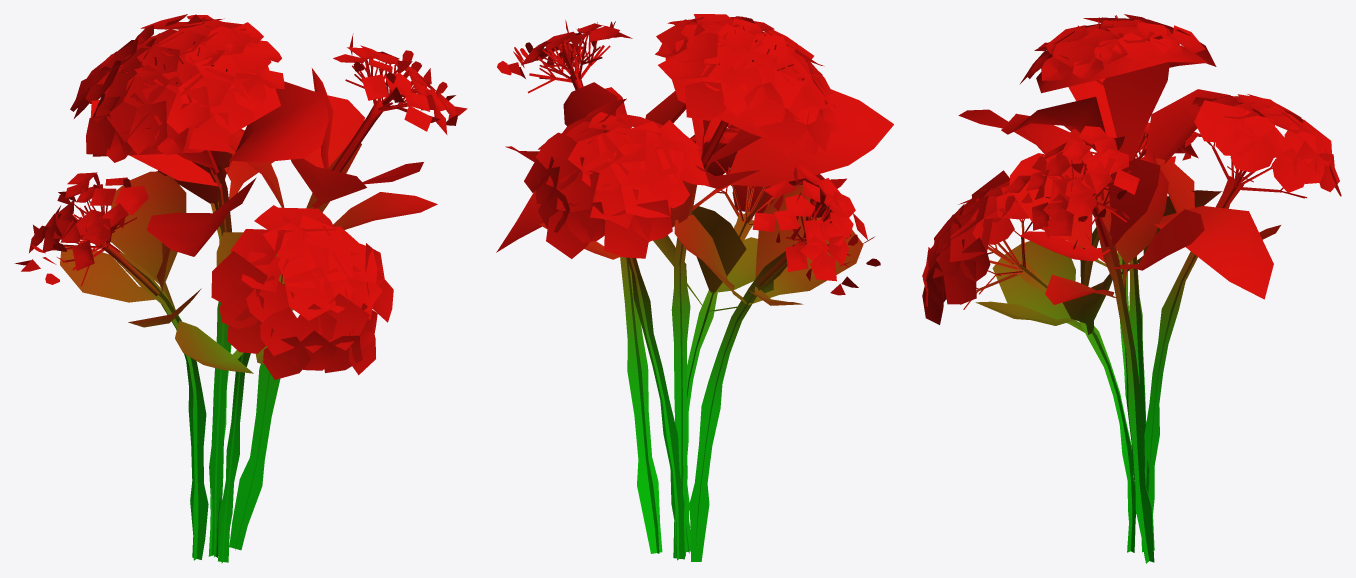
The model's file is Var12_LOD3.fbx.
The picture shows the model from 3 angles, left to right: view 1: azimuth 30°, elevation 25°; view 2: azimuth 150°, elevation 25°; view 3: azimuth 270°, elevation 25°; orthographic projection. The views are drawn at different scales.
Visible parts, largest first — view 1: _o3hh_Var12_LOD3; view 2: _o3hh_Var12_LOD3; view 3: _o3hh_Var12_LOD3.
Part boxes in pixels (left/top/right/bottom): _o3hh_Var12_LOD3: left=14, top=14, right=467, bottom=563; _o3hh_Var12_LOD3: left=496, top=14, right=893, bottom=561; _o3hh_Var12_LOD3: left=922, top=14, right=1341, bottom=563.
Bounding box in the file's own units: 37.41 × 48.1 × 35.6.
